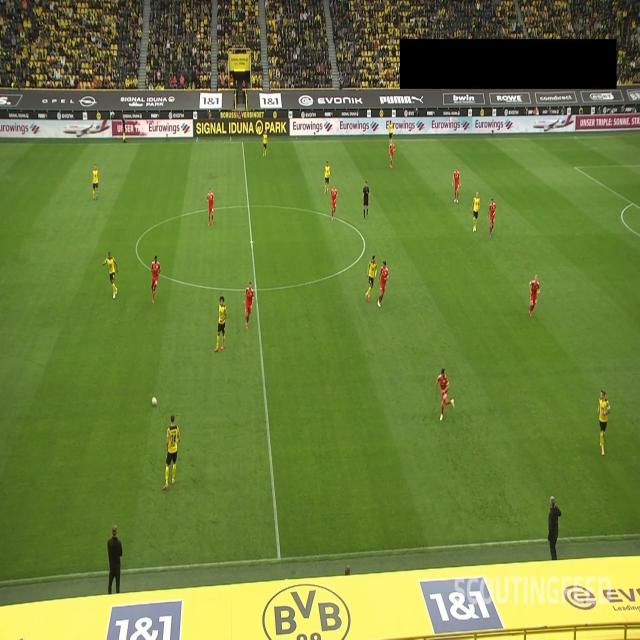ball: (151, 396, 158, 408)
